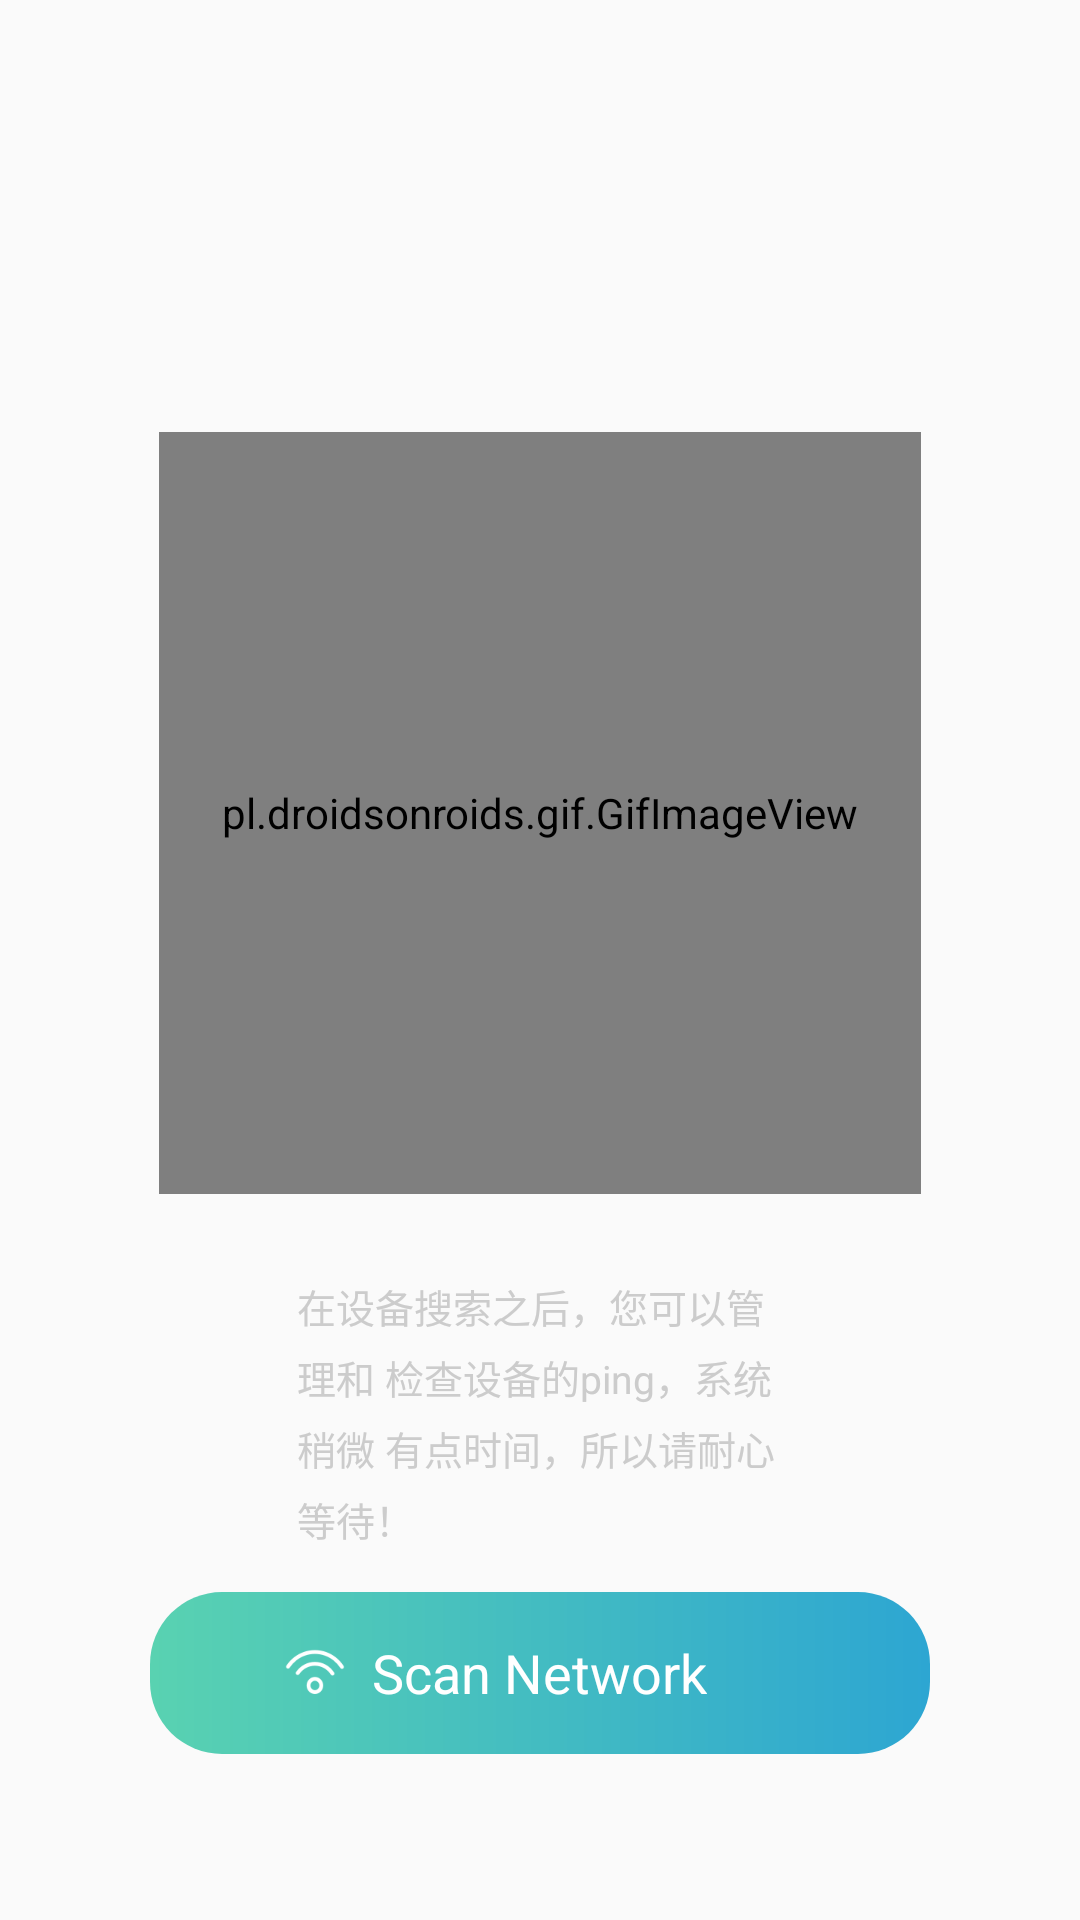

Where to tap for icons on this 1080×1920 app screen, as point (x, y):
wifi defalt: point (315, 1672)
